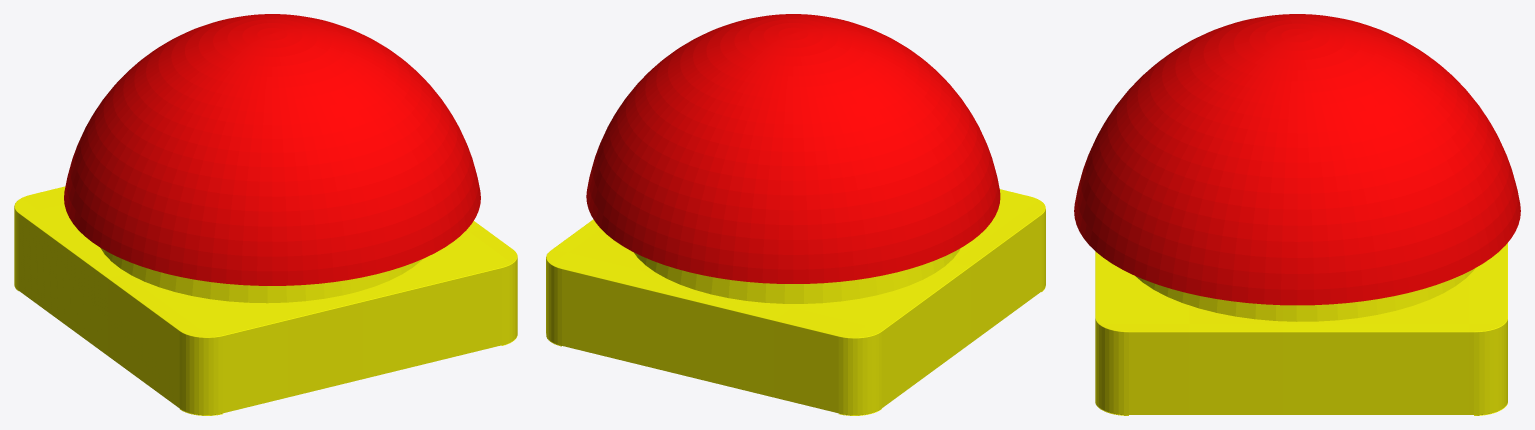
The model's file is button.fbx.
3 renders of one model, left to right at view 1: azimuth 30°, elevation 25°; view 2: azimuth 150°, elevation 25°; view 3: azimuth 270°, elevation 25°, orthographic. The views are drawn at different scales.
Visible parts, largest first — view 1: Knoppie, Basis; view 2: Knoppie, Basis; view 3: Knoppie, Basis.
Part boxes in pixels (left/top/right/bottom): Knoppie: left=64, top=14, right=480, bottom=285; Basis: left=14, top=186, right=517, bottom=415; Knoppie: left=586, top=14, right=1000, bottom=283; Basis: left=546, top=189, right=1045, bottom=415; Knoppie: left=1074, top=14, right=1520, bottom=305; Basis: left=1095, top=243, right=1507, bottom=415.
Size of the model in its own units: 0.1555 by 0.1136 by 0.1555.
1 material, 1 textured.
